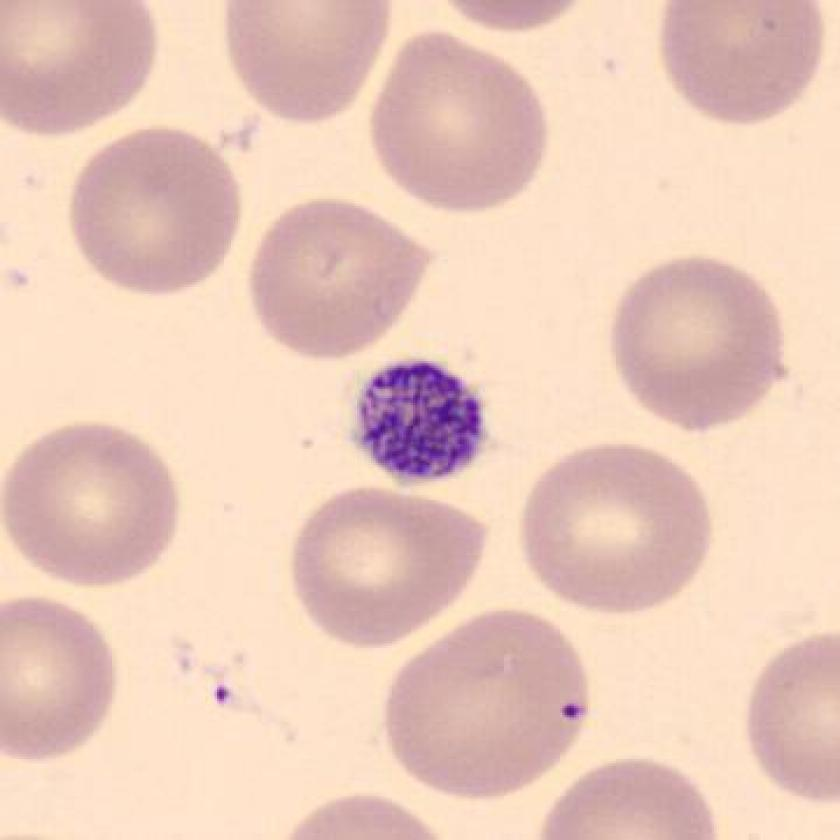platelets: (346, 355, 503, 501)
